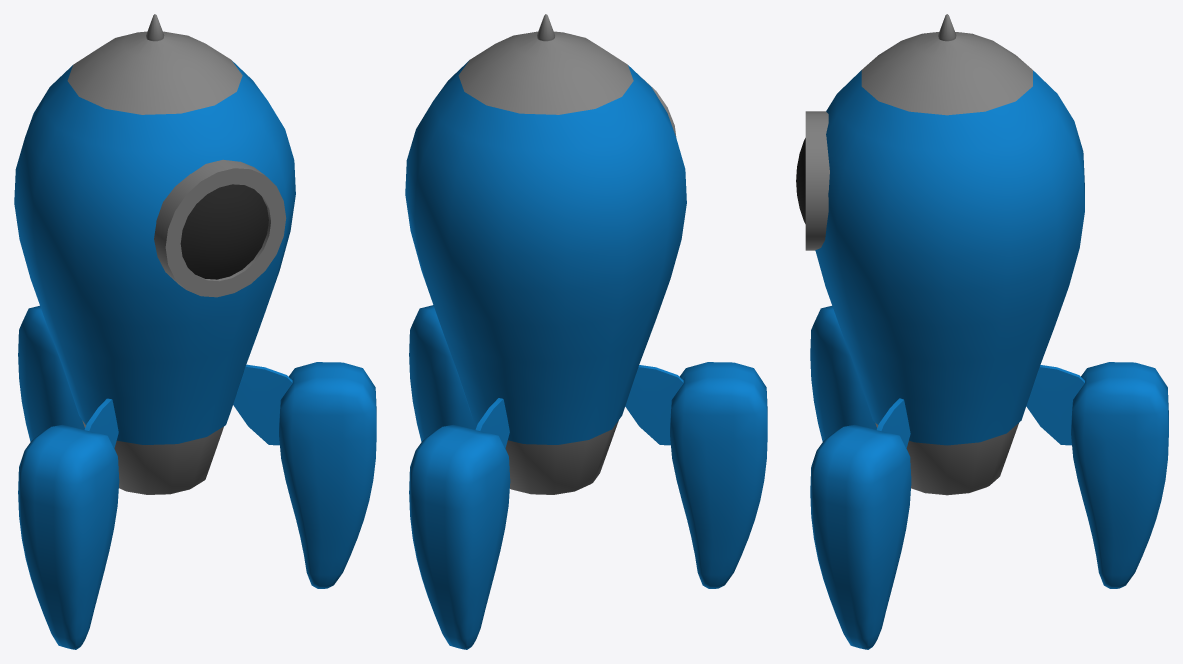
The model's file is Rocket.fbx.
The picture shows the model from 3 angles, left to right: view 1: azimuth 30°, elevation 25°; view 2: azimuth 150°, elevation 25°; view 3: azimuth 270°, elevation 25°; orthographic projection.
Parts seen in each view (by area): view 1: rocketMainBody, rocketLegs, rocketCap, windowFrame, window, rocketThruster; view 2: rocketMainBody, rocketLegs, rocketCap, rocketThruster; view 3: rocketMainBody, rocketLegs, rocketCap, rocketThruster, windowFrame, window.
Part boxes in pixels (x1,y1,x2,y2): rocketMainBody: [14, 61, 295, 444]; rocketLegs: [18, 305, 376, 649]; rocketCap: [67, 14, 242, 114]; windowFrame: [154, 159, 286, 297]; window: [180, 184, 268, 279]; rocketThruster: [82, 420, 223, 494]; rocketMainBody: [405, 60, 686, 444]; rocketLegs: [409, 305, 767, 649]; rocketCap: [458, 14, 633, 114]; rocketThruster: [505, 420, 618, 494]; rocketMainBody: [815, 70, 1084, 445]; rocketLegs: [810, 306, 1168, 649]; rocketCap: [861, 14, 1032, 115]; rocketThruster: [875, 423, 1018, 495]; windowFrame: [805, 111, 829, 250]; window: [796, 138, 805, 223].
Bounding box in the file's own units: 47.22 × 72.49 × 42.83.
